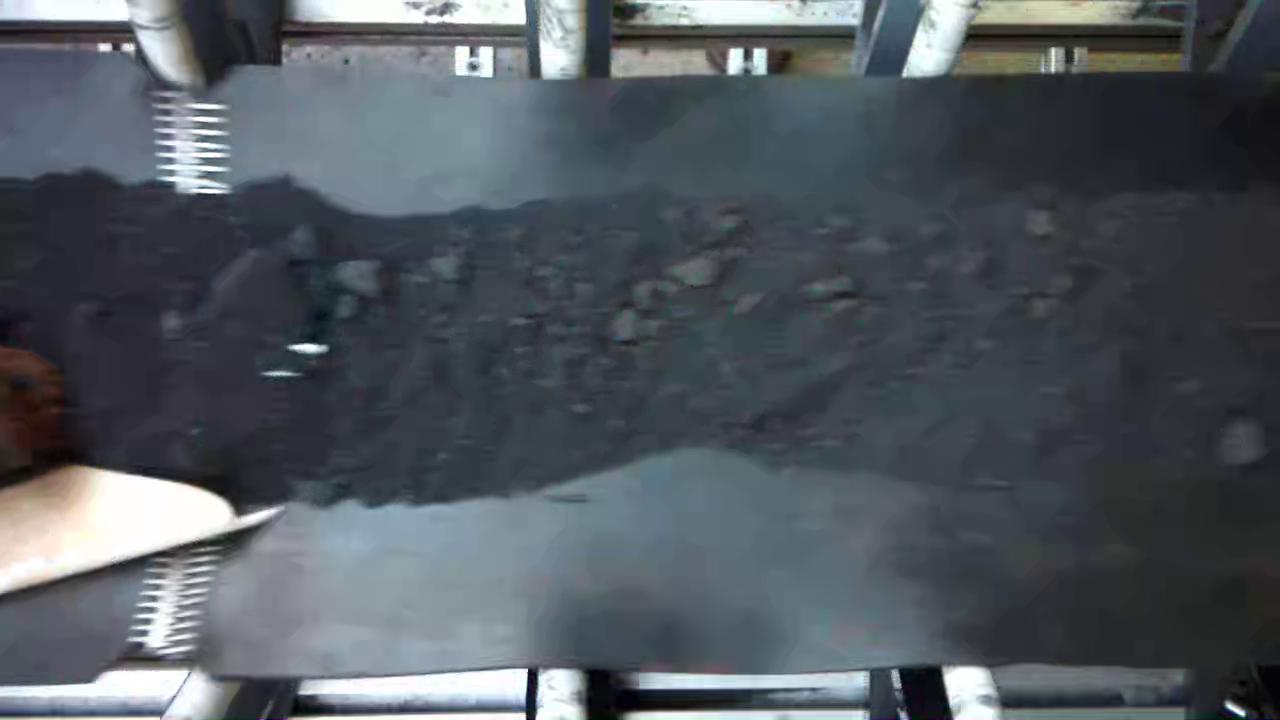conveyor: (1, 81, 1280, 663)
